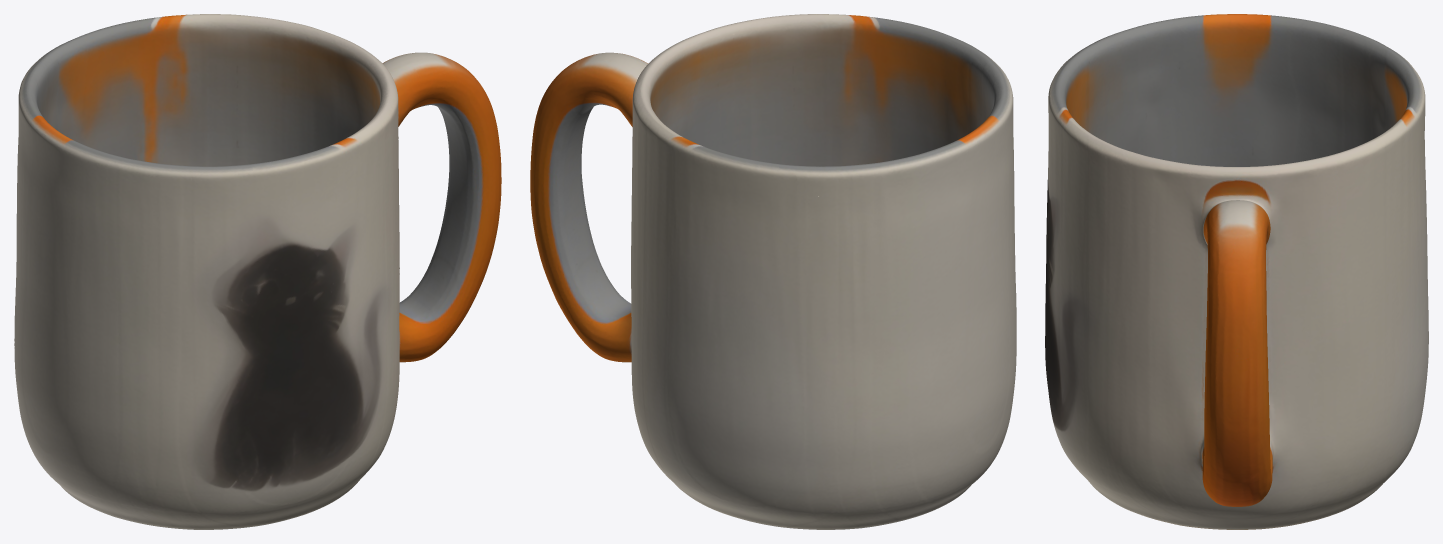
The model's file is asset.glb.
3 views of the same model, side by side, from view 1: azimuth 30°, elevation 25°; view 2: azimuth 150°, elevation 25°; view 3: azimuth 270°, elevation 25° (orthographic).
Parts seen in each view (by area): view 1: tripo_node_47a0e260-0716-426d-9f2f-4ce38dcd9080; view 2: tripo_node_47a0e260-0716-426d-9f2f-4ce38dcd9080; view 3: tripo_node_47a0e260-0716-426d-9f2f-4ce38dcd9080.
Part boxes in pixels (bbox=[...]): tripo_node_47a0e260-0716-426d-9f2f-4ce38dcd9080: bbox=[14, 14, 501, 529]; tripo_node_47a0e260-0716-426d-9f2f-4ce38dcd9080: bbox=[530, 14, 1016, 529]; tripo_node_47a0e260-0716-426d-9f2f-4ce38dcd9080: bbox=[1045, 14, 1428, 529].
Bounding box in the file's own units: 1 × 0.7899 × 0.7298.
1 material, 1 textured.
